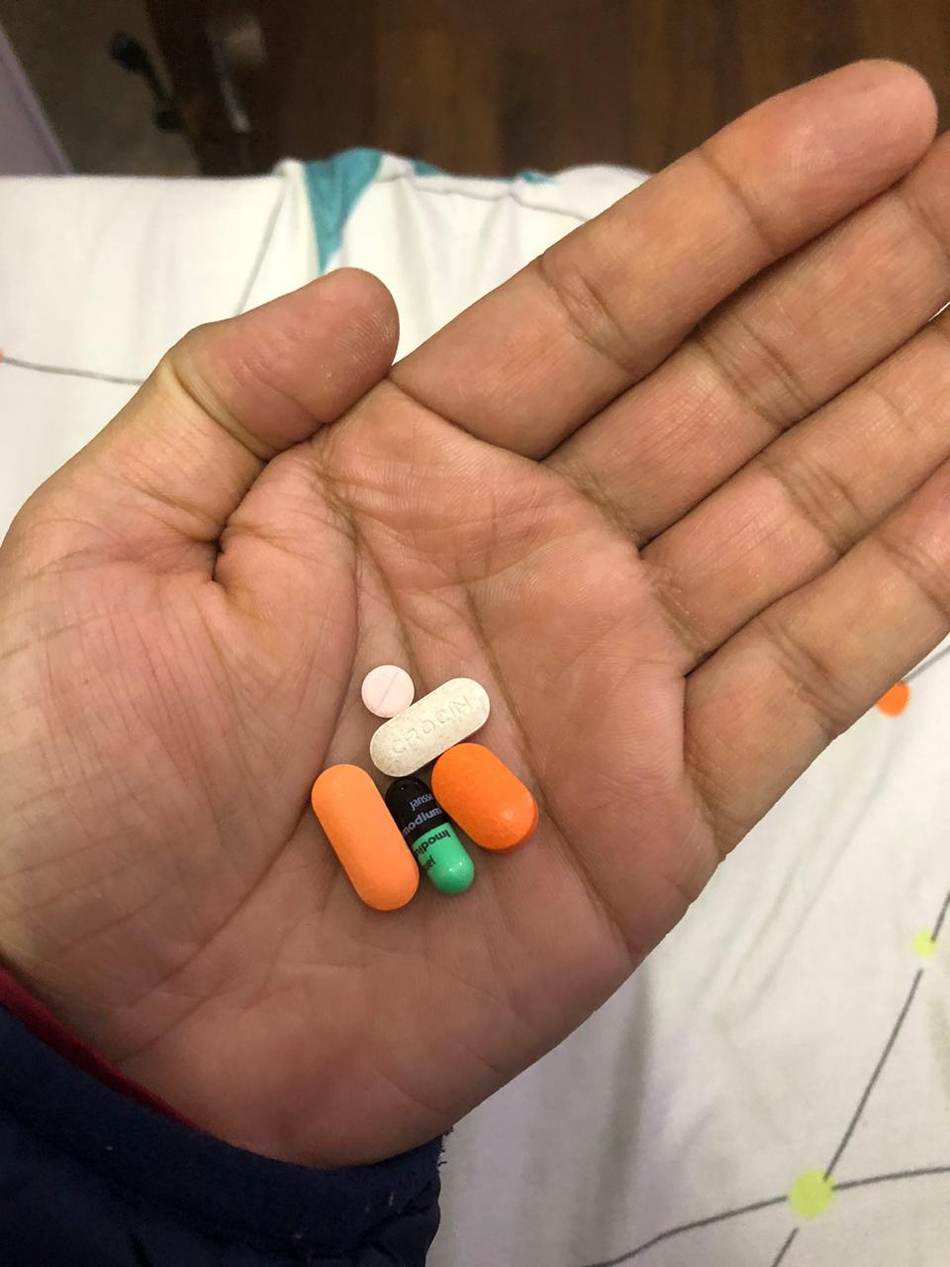tablets: (312, 761, 423, 916), (430, 740, 539, 852), (371, 676, 491, 777), (383, 776, 475, 898), (356, 661, 413, 714)
